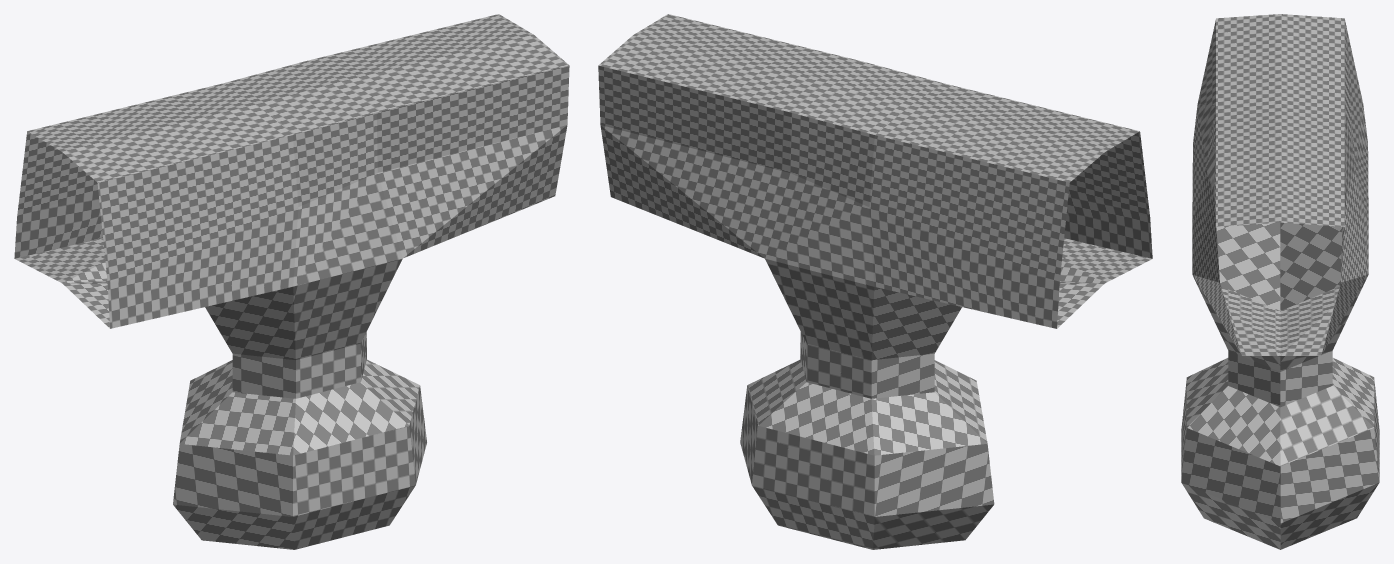
The model's file is prv1o-6.obj.
The picture shows the model from 3 angles, left to right: view 1: azimuth 30°, elevation 25°; view 2: azimuth 150°, elevation 25°; view 3: azimuth 270°, elevation 25°; orthographic projection. The views are drawn at different scales.
Parts seen in each view (by area): view 1: Cube.004; view 2: Cube.004; view 3: Cube.004.
Part boxes in pixels (x1,y1,x2,y2): Cube.004: (14,14,569,549); Cube.004: (598,14,1152,549); Cube.004: (1181,14,1379,549).
Bounding box in the file's own units: 104 × 89.32 × 41.34.
